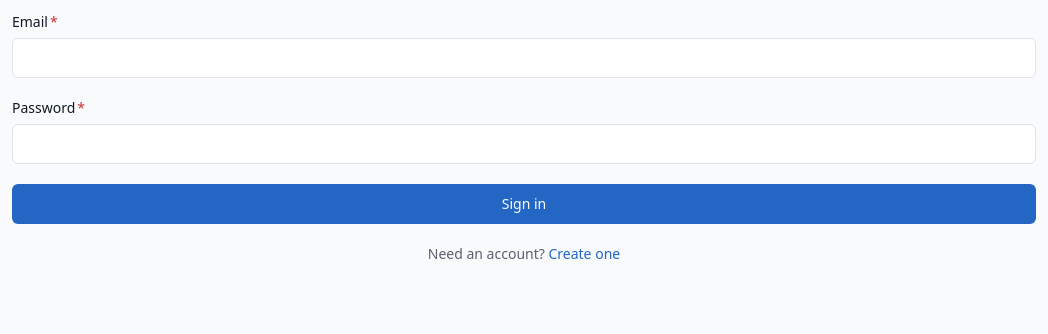
Test: LoginForm › shows only a safe adapter error
Step 1. Type "test@example.com" into the field labelled "Email*" → [524, 58], box [12,38,1036,78]
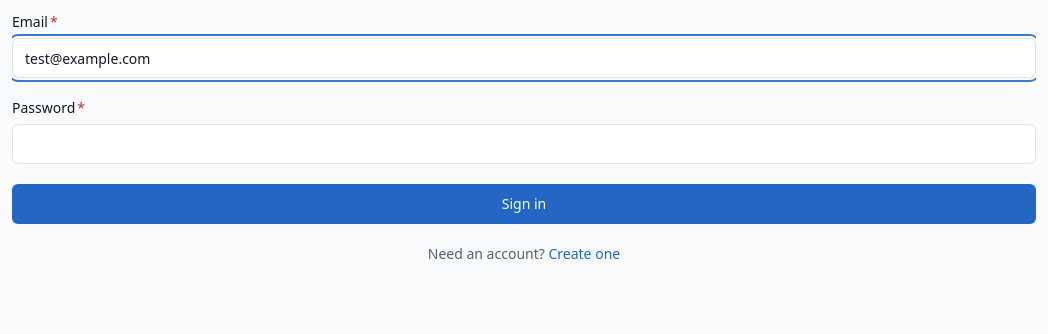
Step 2. Type "StrongPass1!" into the password field labelled "Password*" → [524, 144], box [12,124,1036,164]
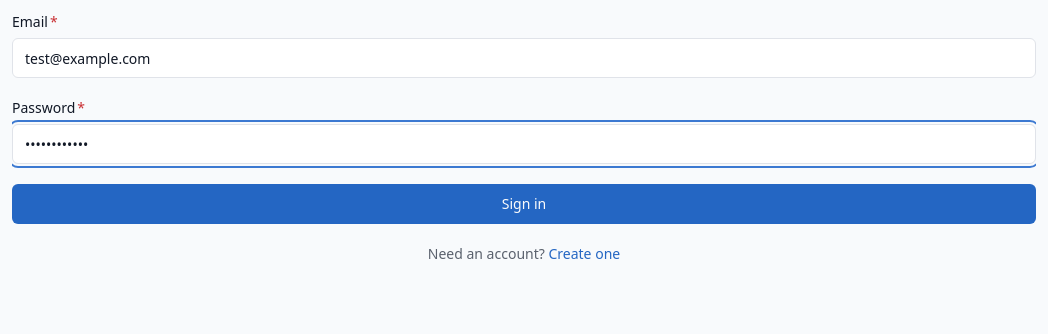
Step 3. Click the button "Sign in" → [524, 204], box [12,184,1036,224]
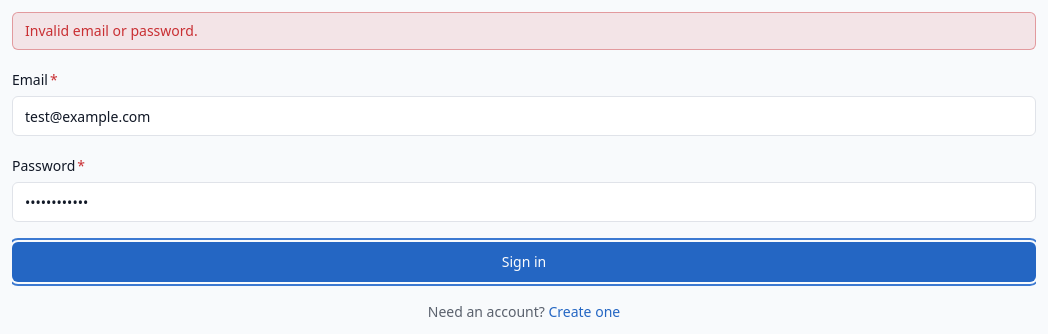
Now the message reads "Invalid email or password.", box [25,21,198,40]
